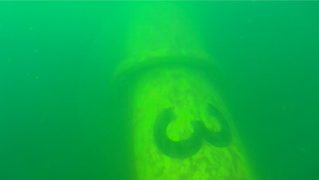3: (153, 100, 233, 159)
pipe: (110, 1, 256, 179)
